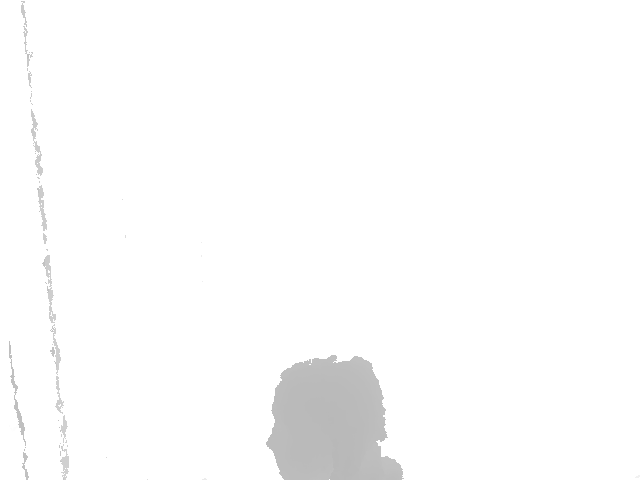head: (266, 355, 388, 480)
person: (266, 354, 404, 480)
